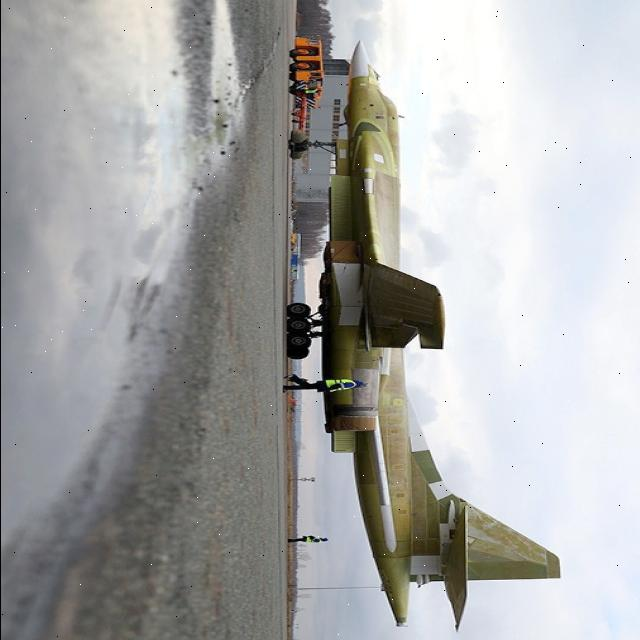Tu160: (220, 10, 578, 633)
